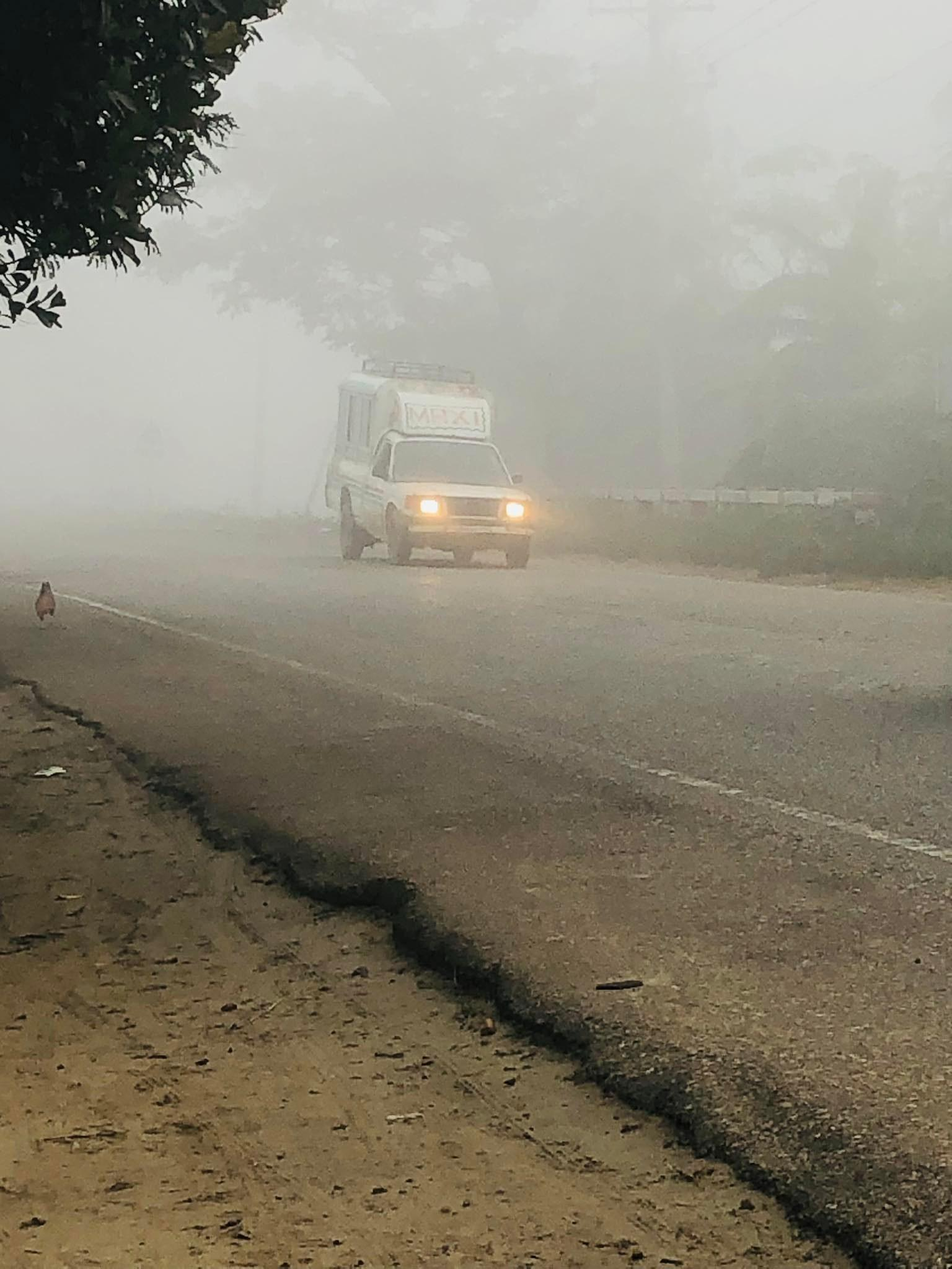Car: (300, 338, 558, 626)
